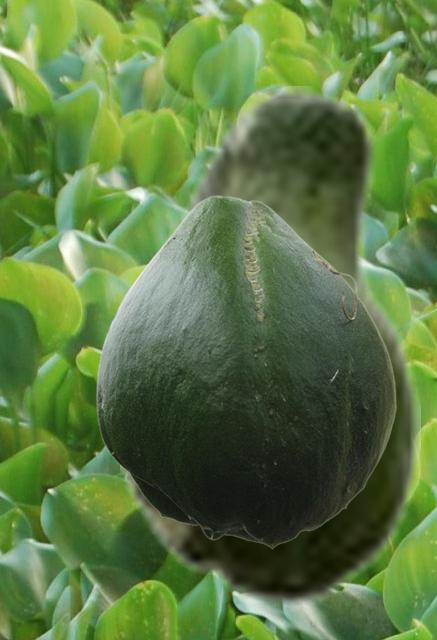sayote: (120, 86, 419, 608), (96, 195, 395, 548)
